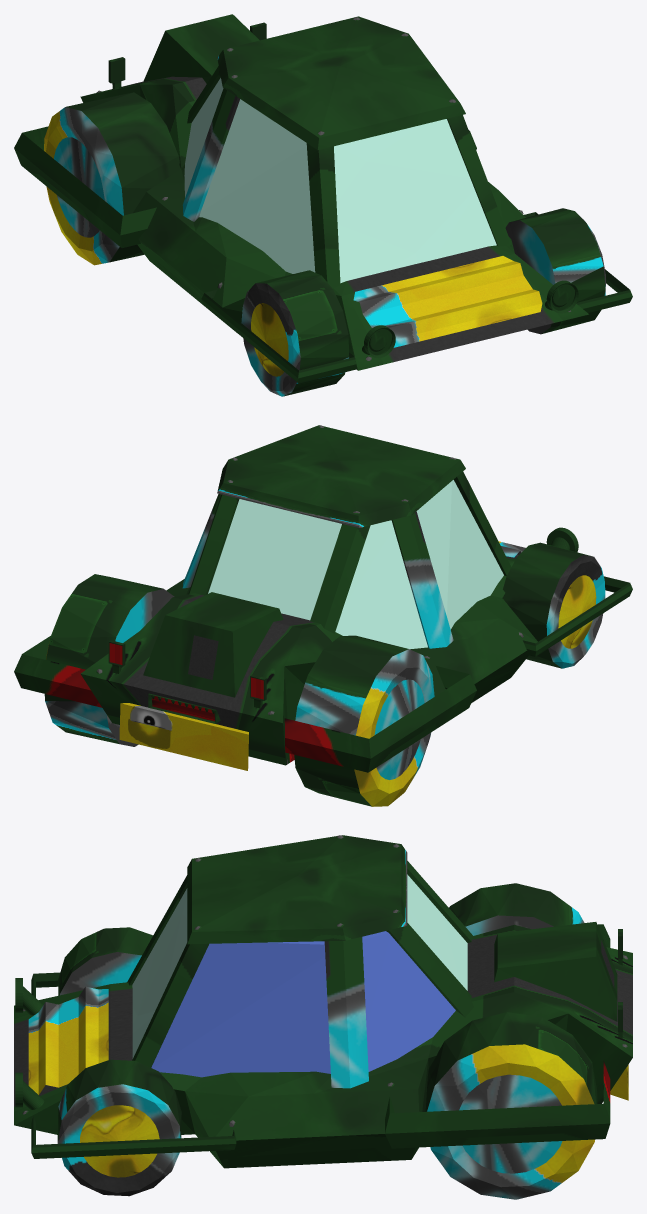
File: kart.glb
3 views of the same model, one above another, from view 1: azimuth 30°, elevation 25°; view 2: azimuth 150°, elevation 25°; view 3: azimuth 270°, elevation 25° (orthographic). The views are drawn at different scales.
Visible parts, largest first — view 1: body (×2), wheel-rear-left, wheel-front-left, wheel-front-right; view 2: body (×2), wheel-rear-left, wheel-rear-right, wheel-front-left; view 3: body (×3), wheel-rear-right, wheel-front-right, wheel-rear-left, wheel-front-left.
Boxes of the visible parts, bbox=[...] form: body (×2): bbox=[14, 14, 632, 383]; wheel-rear-left: bbox=[44, 92, 180, 265]; wheel-front-left: bbox=[241, 270, 349, 396]; wheel-front-right: bbox=[505, 208, 605, 334]; body (×2): bbox=[14, 425, 632, 772]; wheel-rear-left: bbox=[294, 635, 434, 806]; wheel-rear-right: bbox=[44, 574, 174, 746]; wheel-front-left: bbox=[502, 542, 605, 668]; body (×3): bbox=[14, 835, 632, 1168]; wheel-rear-right: bbox=[425, 1012, 597, 1199]; wheel-front-right: bbox=[57, 1059, 181, 1196]; wheel-rear-left: bbox=[449, 883, 584, 935]; wheel-front-left: bbox=[58, 927, 152, 995].
Bounding box in the file's own units: 1.11 × 0.6834 × 1.57.
4 materials, 4 textured.
